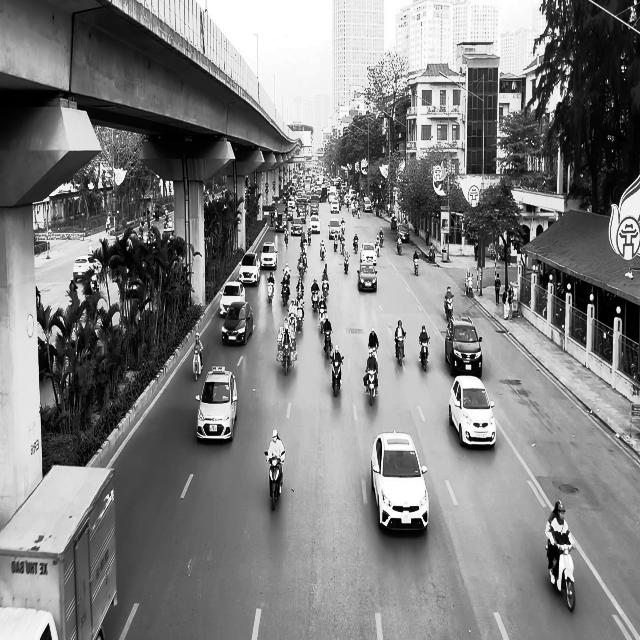car: (371, 430, 429, 532), (449, 374, 496, 448), (196, 365, 238, 443), (445, 315, 483, 378), (221, 300, 254, 345), (219, 280, 246, 318), (238, 252, 260, 286), (357, 263, 377, 292), (260, 242, 278, 268), (360, 242, 377, 265), (328, 218, 341, 239), (397, 223, 410, 242)
motorbike: (546, 541, 576, 612), (265, 450, 285, 511), (331, 356, 344, 396), (364, 369, 378, 405), (420, 335, 430, 371), (193, 346, 203, 381), (396, 334, 406, 367), (323, 330, 332, 359), (267, 281, 275, 305), (344, 252, 349, 274), (414, 256, 419, 276)
truck: (1, 463, 118, 639)
